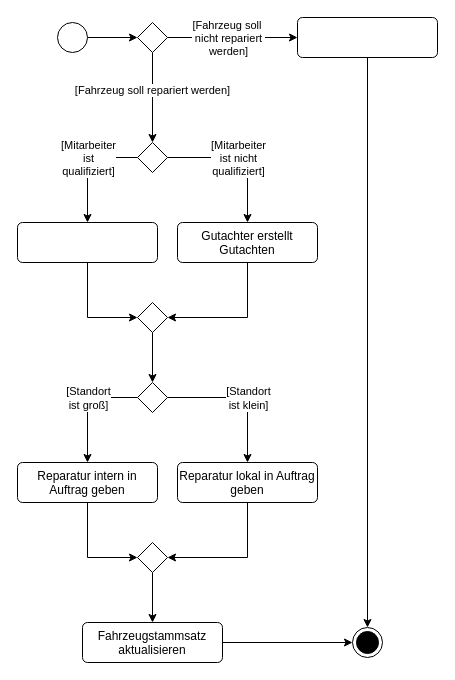
The diagram is 455 pixels wide and 680 high, and some of its shapes have lost their labels. The shapes that lost their labels are listed below. From the top down, each one's centre as x and y in pixels, then its label:
At (x=367, y=37): "Fahrzeug entsorgen".
At (x=87, y=242): "Mitarbeiter erstellt Gutachten".
